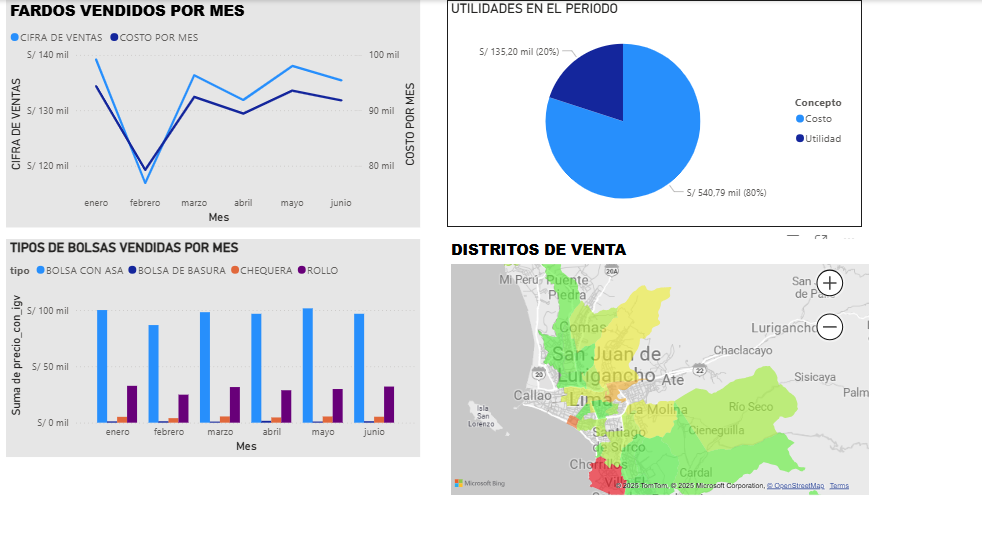

Layout of this report page (visuals, bound fields, positions):
{"tool":"powerbi","page":{"name":"FINANZAS","canvas":[1280,720],"ordinal":1},"visuals":[{"type":"lineChart","title":"FARDOS VENDIDOS POR MES ","fields":{"Category":["ventas.fecha.Variación.Jerarquía de fechas.Mes"],"Y":["Sum(ventas.precio_con_igv)"],"Y2":["Sum(ventas.costo)"]},"box":[10,0,527.5,290],"z":0},{"type":"clusteredColumnChart","title":"TIPOS DE BOLSAS VENDIDAS POR MES ","fields":{"Series":["ventas.tipo"],"Category":["ventas.fecha.Variación.Jerarquía de fechas.Mes"],"Y":["Sum(ventas.precio_con_igv)"]},"box":[10,305,527.5,277.5],"z":1},{"type":"pieChart","title":"UTILIDADES EN EL PERIODO","fields":{"Category":["CostoUtilidad.Concepto"],"Y":["Sum(CostoUtilidad.Monto)"]},"box":[572.5,0,528.8,290],"z":2},{"type":"filledMap","title":"DISTRITOS DE VENTA","fields":{"Category":["ventas.distrito","ventas.provincia"]},"box":[572.5,305,542.5,331.2],"z":3}]}

Visuals, with their boxes in screenshot pixels (x1, y1, x2, y2), scaled from the page's 1280x720 canvas onto the 982x559 screenshot:
"FARDOS VENDIDOS POR MES " lineChart: pyautogui.locateOnScreen(8, 0, 412, 225)
"TIPOS DE BOLSAS VENDIDAS POR MES " clusteredColumnChart: pyautogui.locateOnScreen(8, 237, 412, 452)
"UTILIDADES EN EL PERIODO" pieChart: pyautogui.locateOnScreen(439, 0, 845, 225)
"DISTRITOS DE VENTA" filledMap: pyautogui.locateOnScreen(439, 237, 855, 494)
